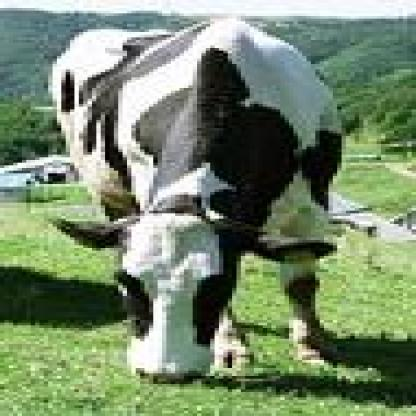cow: (55, 29, 344, 384)
